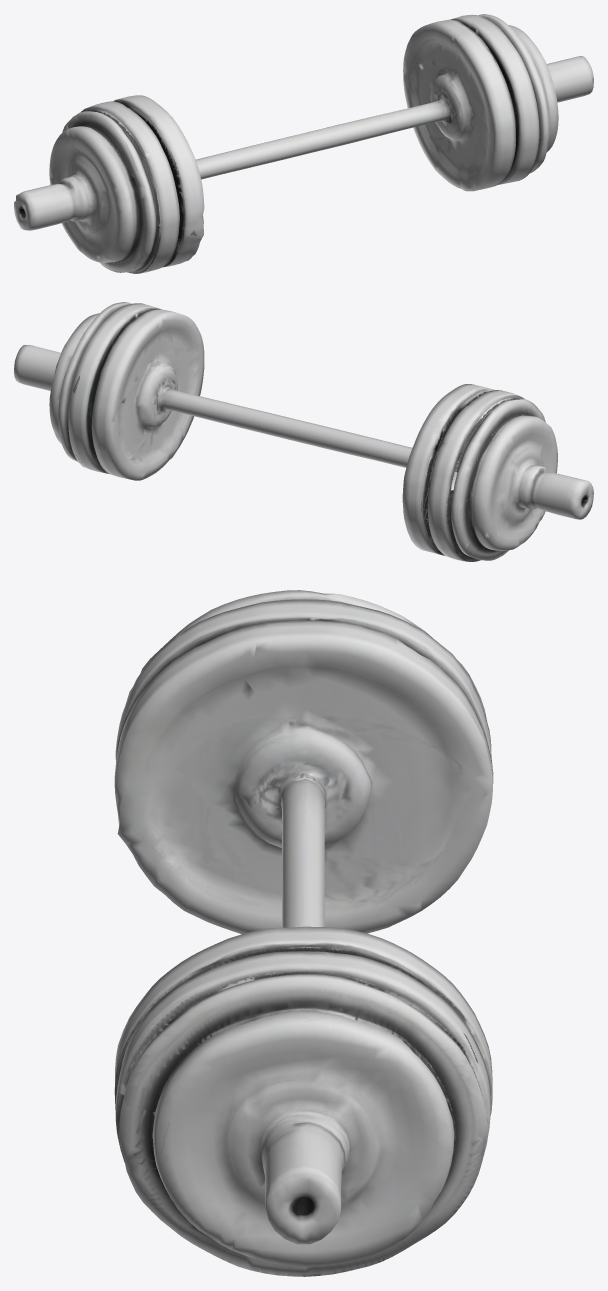
The picture shows the model from 3 angles, top to bottom: view 1: azimuth 30°, elevation 25°; view 2: azimuth 150°, elevation 25°; view 3: azimuth 270°, elevation 25°; orthographic projection. The views are drawn at different scales.
Size of the model in its own units: 2 by 0.5181 by 0.5843.
Materials: 1 (1 with a texture image).
